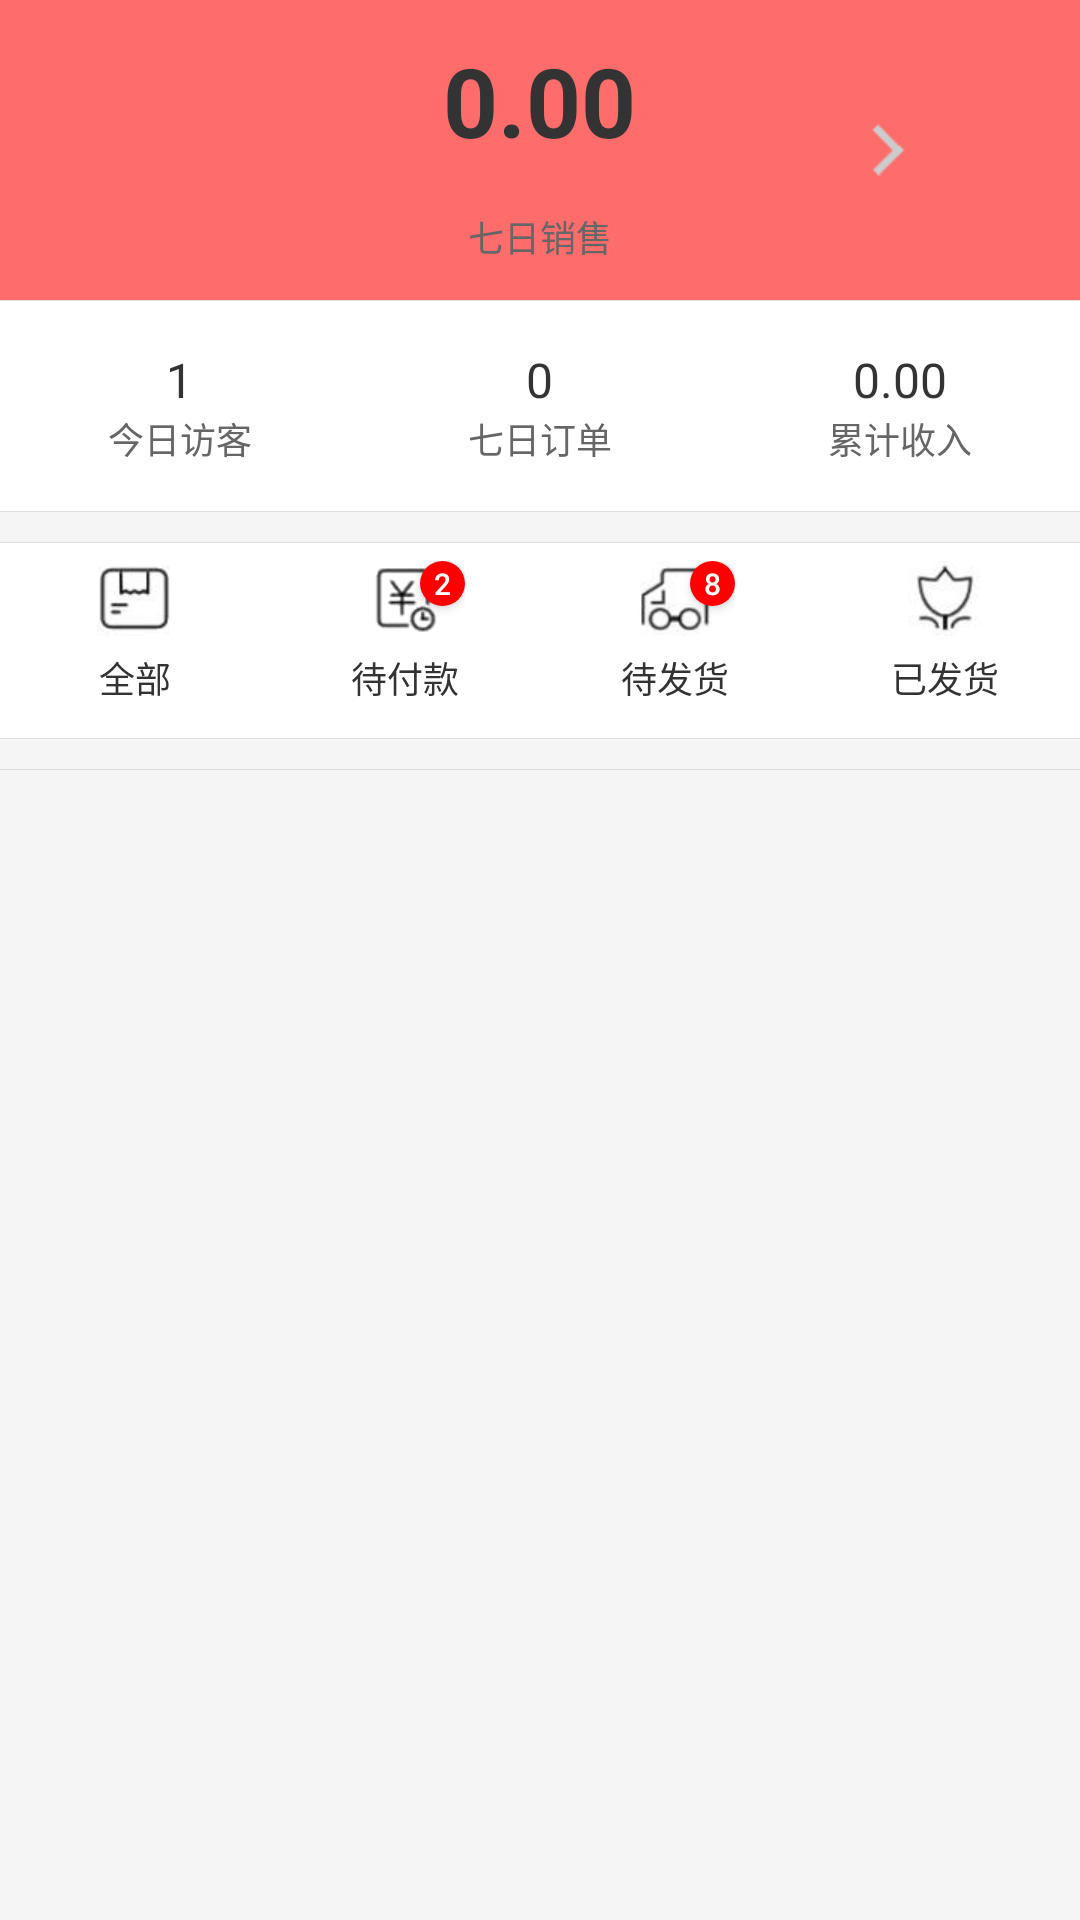

Icons on this 1080 × 1920 Android screen, each with its box as (x1, y1, x2, y2):
arrow right: (873, 124, 904, 176)
